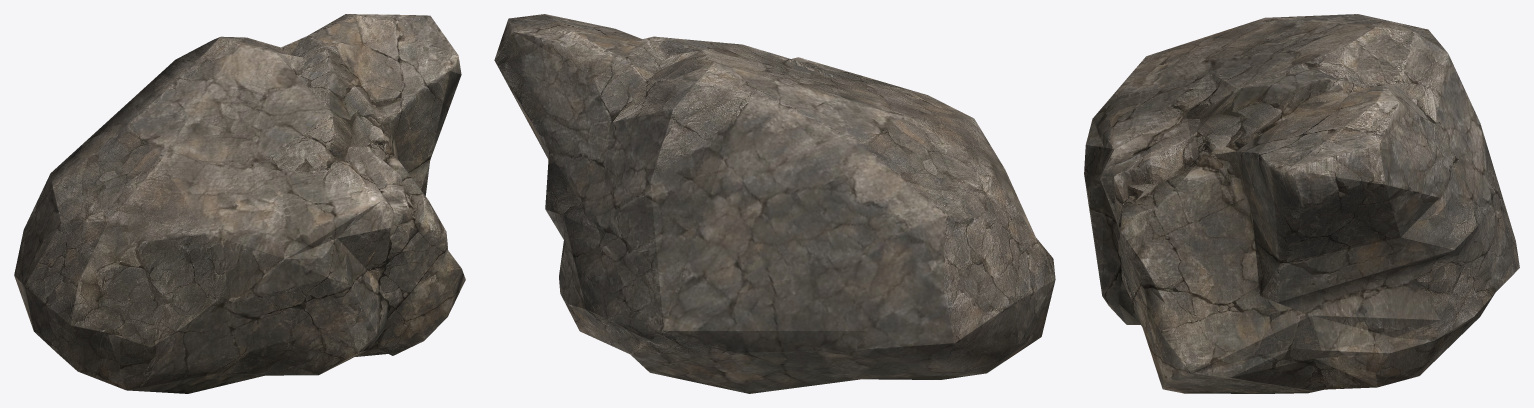
File: monolith.glb
3 views of the same model, side by side, from view 1: azimuth 30°, elevation 25°; view 2: azimuth 150°, elevation 25°; view 3: azimuth 270°, elevation 25° (orthographic). The views are drawn at different scales.
Bounding box in the file's own units: 1.86 × 1.14 × 1.37.
Materials: 1 (1 with a texture image).
